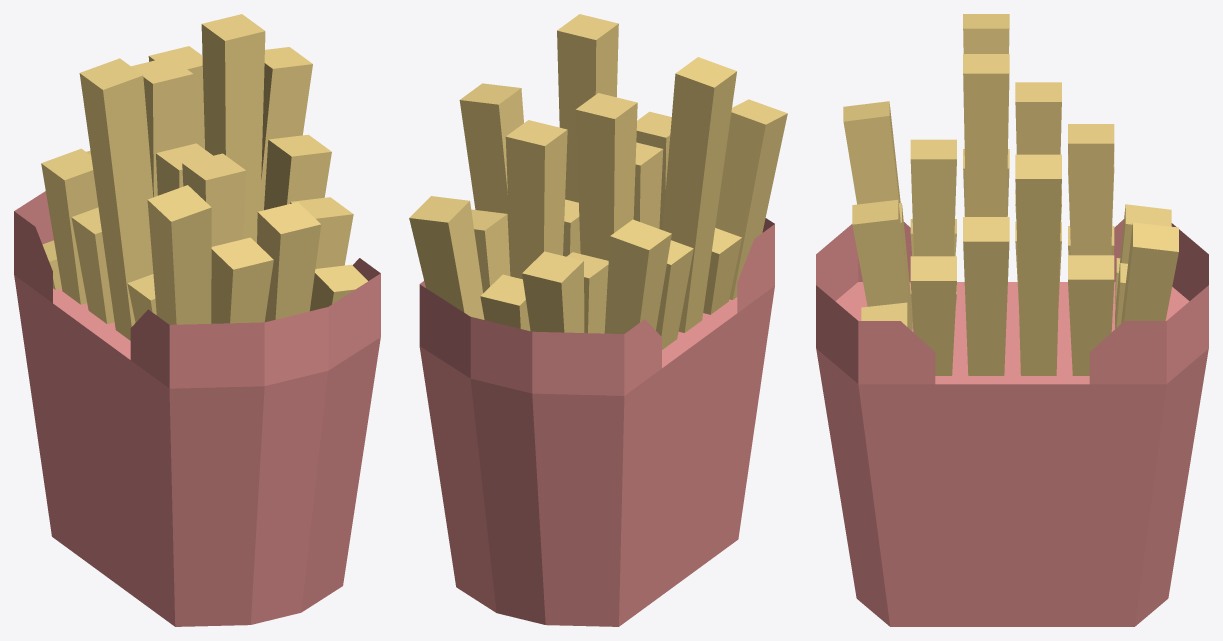
File: fries.glb
3 views of the same model, side by side, from view 1: azimuth 30°, elevation 25°; view 2: azimuth 150°, elevation 25°; view 3: azimuth 270°, elevation 25° (orthographic). The views are drawn at different scales.
Visible parts, largest first — view 1: fries (×2); view 2: fries (×2); view 3: fries (×2).
Boxes of the visible parts, x1,y1,x2,y2 form: fries (×2): (14,14,380,626); fries (×2): (409,14,787,626); fries (×2): (816,14,1208,626).
Size of the model in its own units: 0.183 by 0.3978 by 0.2653.
